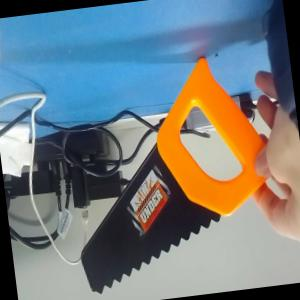serrote: (57, 50, 265, 296)
